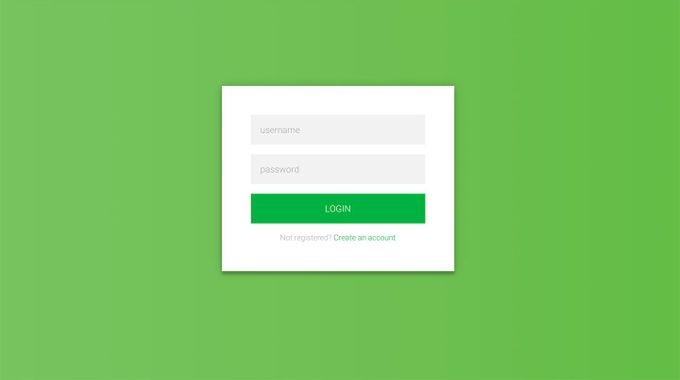_form_: (189, 47, 474, 320)
button: (250, 193, 427, 225)
field: (249, 153, 426, 185), (250, 114, 425, 145)
